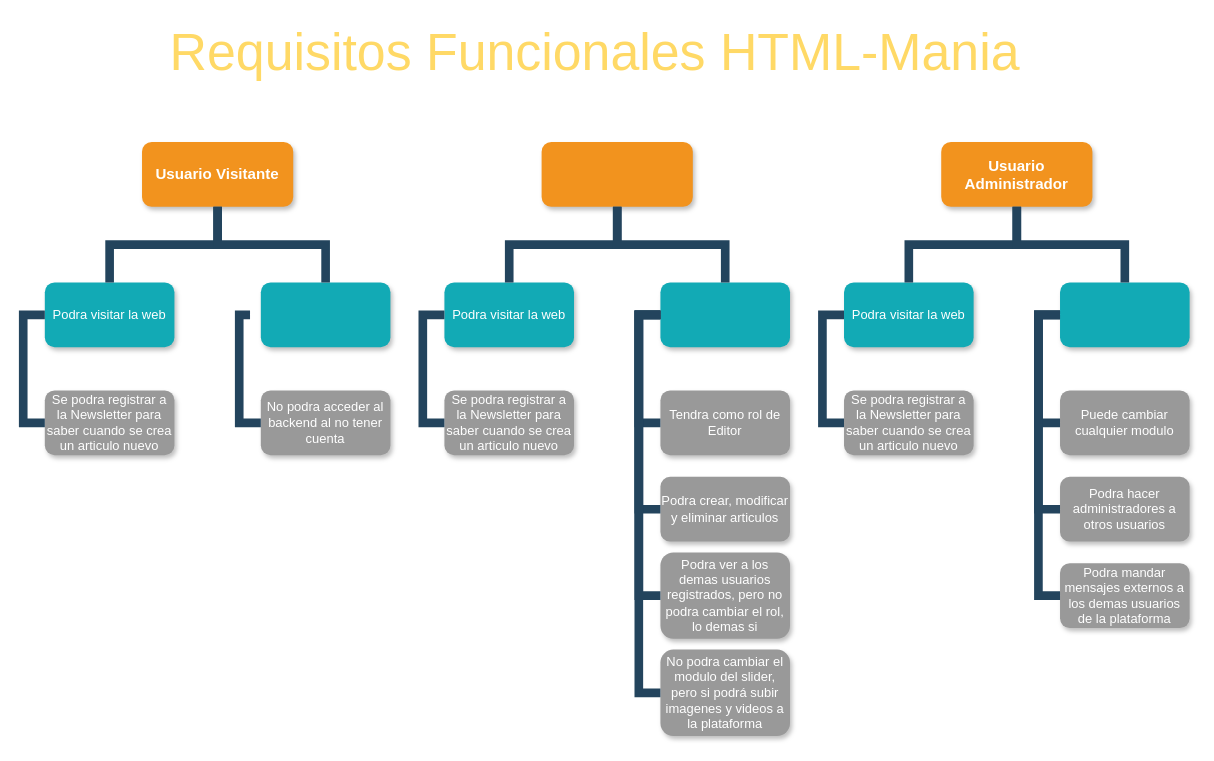
The diagram is 1214 pixels wide and 761 high, and some of its shapes have lost their labels. Here are the shapes that lost their labels. From the top down, the centre of each, then its label:
At point (618, 175): "Usuario Registrado (editor)".
At point (326, 316): "No podra crearse cuenta para el acceso del backend".
At point (726, 316): "Tendra acceso restringido al backend".
At point (1125, 316): "Tendra acceso completo al backend".
